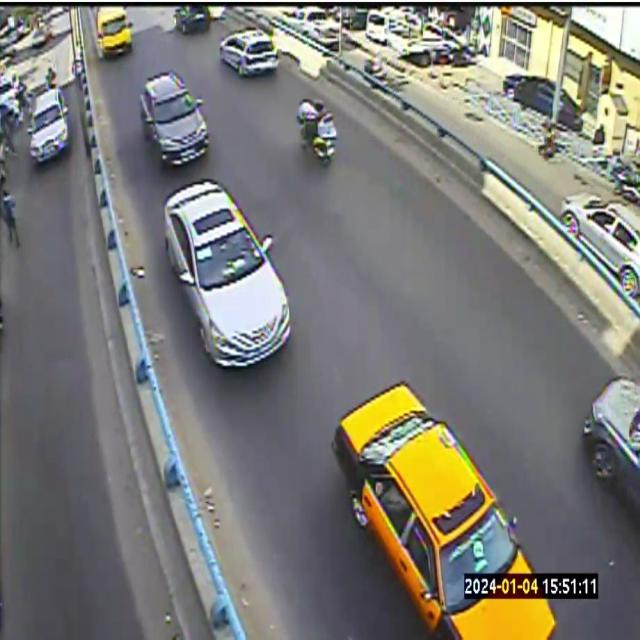car: (332, 383, 555, 639), (164, 179, 289, 367), (582, 376, 639, 509), (139, 71, 209, 165), (220, 30, 278, 75), (96, 7, 131, 57)
